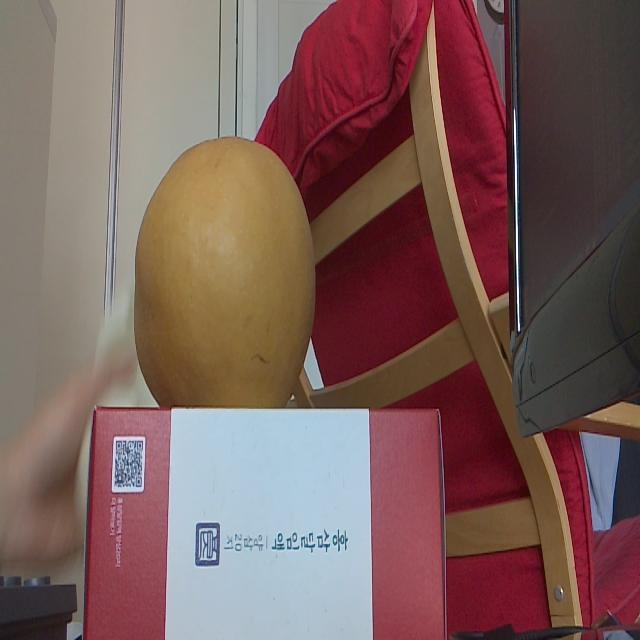pear: (134, 134, 315, 409)
